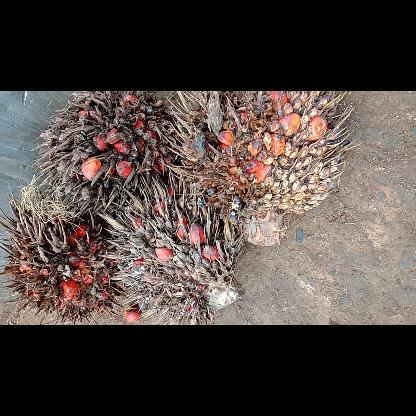Terlalu masak: (162, 91, 358, 249), (98, 168, 252, 324), (0, 178, 132, 324), (25, 90, 181, 212)
